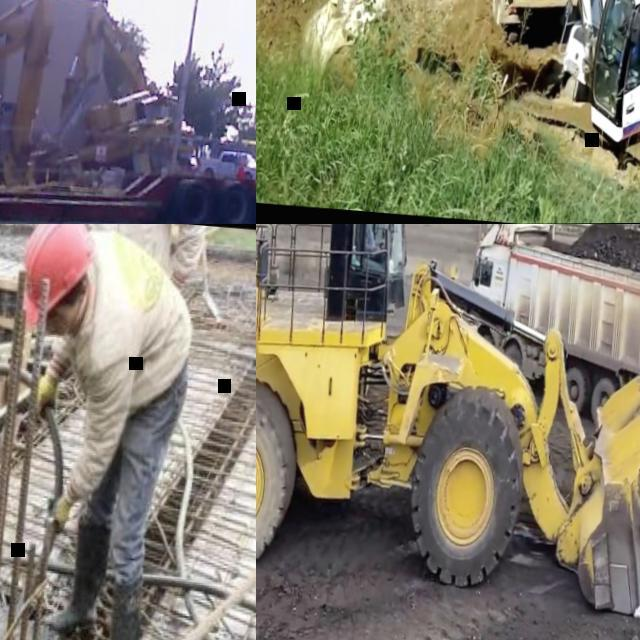helmet: (18, 224, 89, 326)
